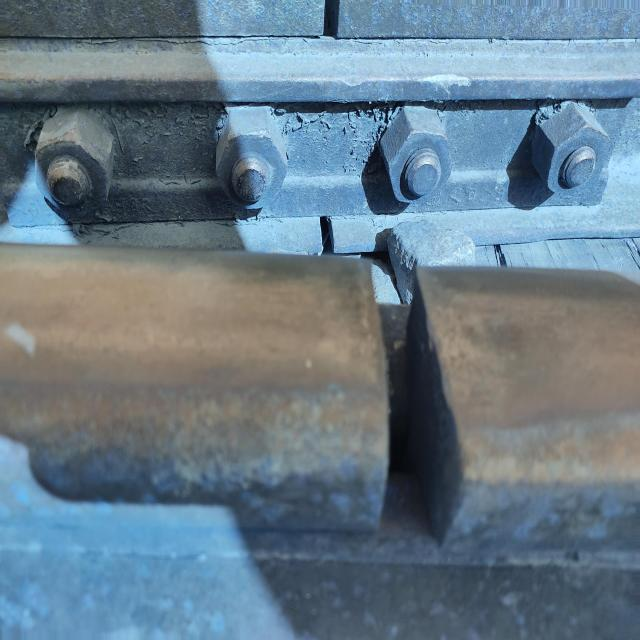crack: (324, 227, 511, 539)
